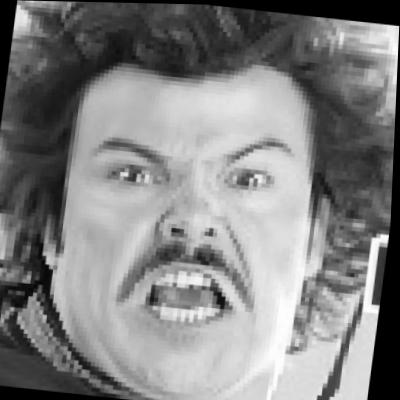angry: (35, 37, 333, 398)
